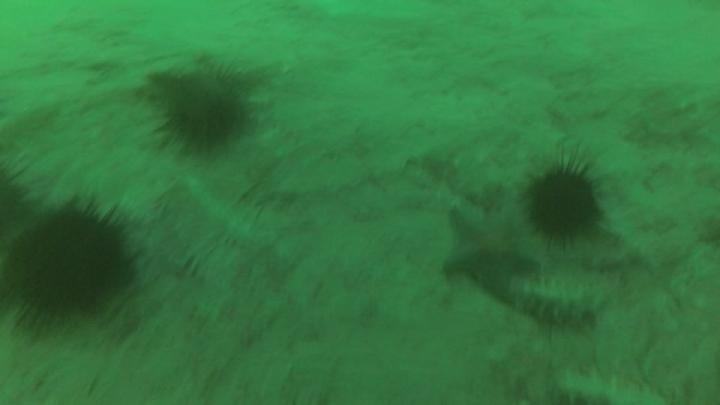echinus: (2, 196, 136, 331), (147, 59, 255, 156), (521, 158, 606, 247), (0, 161, 37, 241)
holothurian: (507, 273, 606, 330)
starfish: (439, 202, 542, 302), (551, 364, 666, 405)
